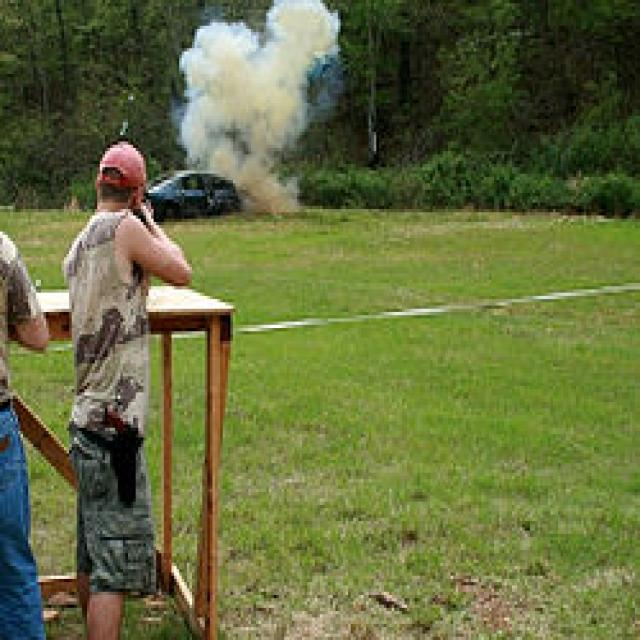explosion: (178, 9, 356, 222)
